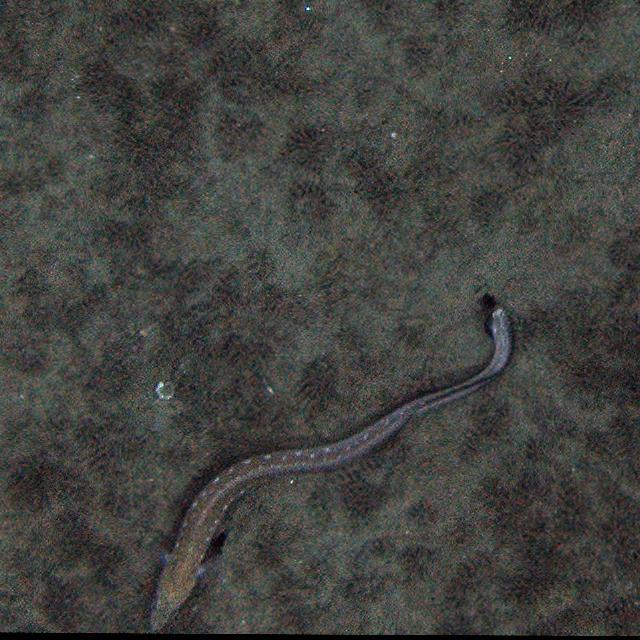roundfish: (133, 314, 523, 632)
